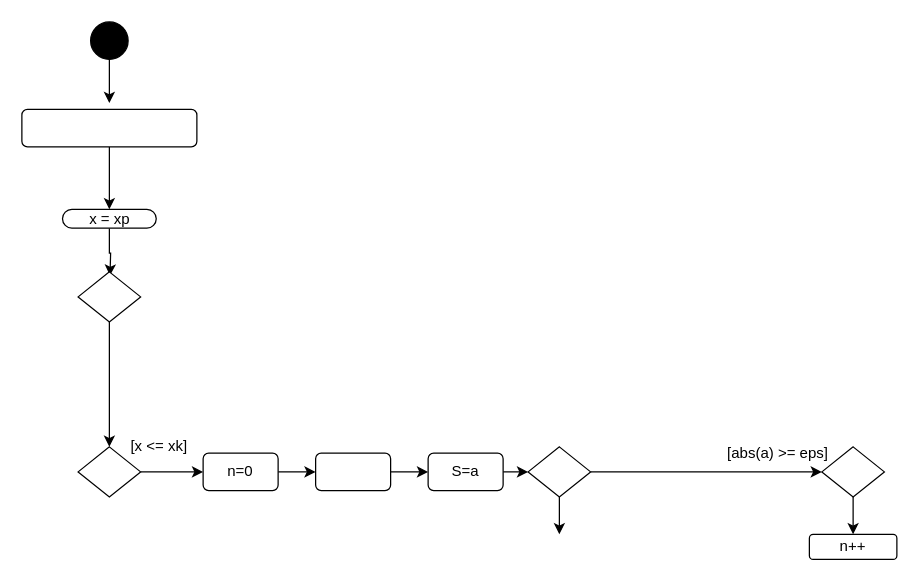
This 919x581 diagram has some shape labels left out. Each missing label, with the centre of its shape:
"a=x" belongs at pixel 352 471.
"ввід xp, xk, x, dx, eps" belongs at pixel 109 127.
